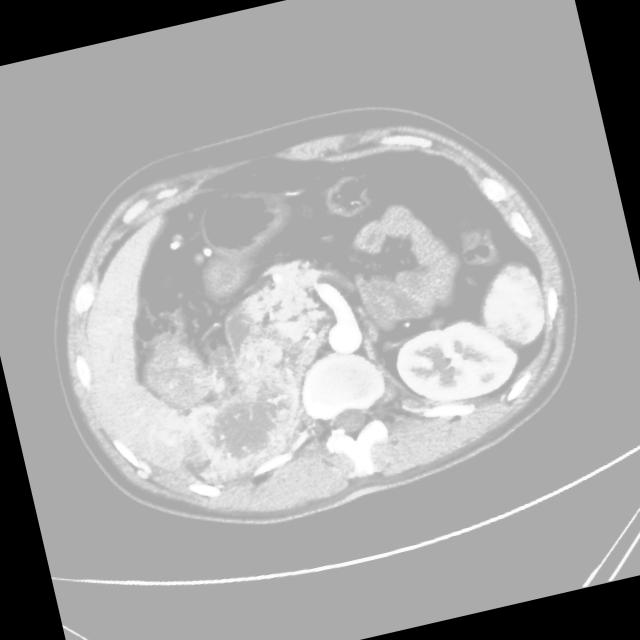TUMOR: (123, 147, 556, 458)
